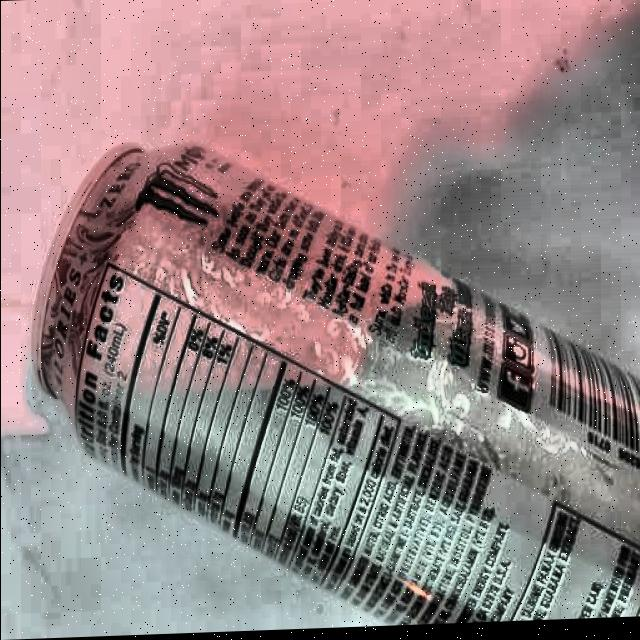metal: (30, 108, 640, 639)
